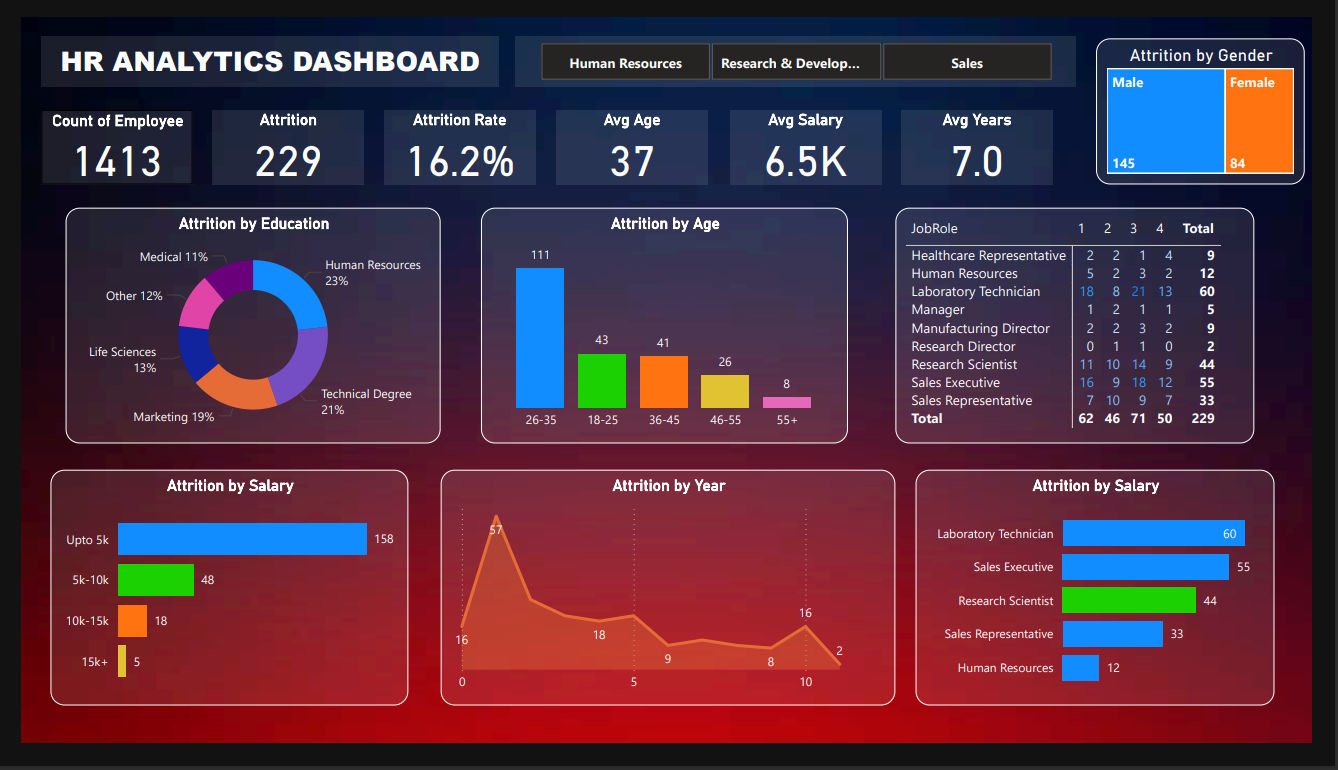

This screenshot's page, from the dashboard's own definition file:
{"tool":"powerbi","page":{"name":"Page 1","canvas":[1280,720],"ordinal":0},"visuals":[{"type":"card","title":"Count of Employee","fields":{"Values":["Sum(HR_Analytics.EmployeeCount)"]},"box":[20,92,150,74.3],"z":0},{"type":"card","title":"Attrition Rate","fields":{"Values":["HR_Analytics.AttritionRate"]},"box":[360,92,150,74.3],"z":1000},{"type":"card","title":"Attrition","fields":{"Values":["Sum(HR_Analytics.AttritionCount)"]},"box":[190,92,150,74.3],"z":2000},{"type":"card","title":"Avg Years","fields":{"Values":["Avg(HR_Analytics.YearsAtCompany)"]},"box":[872.9,92,150,74.3],"z":3000},{"type":"card","title":"Avg Age","fields":{"Values":["Avg(HR_Analytics.Age)"]},"box":[531.4,92,150,74.3],"z":4000},{"type":"card","title":"Avg Salary","fields":{"Values":["Avg(HR_Analytics.MonthlyIncome)"]},"box":[702.9,92,150,74.3],"z":5000},{"type":"treemap","title":"Attrition by Gender","fields":{"Values":["Sum(HR_Analytics.AttritionCount)"],"Group":["HR_Analytics.Gender"]},"box":[1065.7,21.4,207.1,144.3],"z":6000},{"type":"donutChart","title":"Attrition by Education","fields":{"Category":["HR_Analytics.EducationField"],"Y":["HR_Analytics.AttritionRate"]},"box":[44.3,188.6,371.4,234.3],"z":7000},{"type":"clusteredColumnChart","title":"Attrition by Age","fields":{"Y":["Sum(HR_Analytics.AttritionCount)"],"Category":["HR_Analytics.AgeGroup"]},"box":[455.7,188.6,364.3,234.3],"z":8000},{"type":"pivotTable","fields":{"Rows":["HR_Analytics.JobRole"],"Columns":["HR_Analytics.JobSatisfaction"],"Values":["Sum(HR_Analytics.AttritionCount)"]},"box":[867.1,188.6,355.7,234.3],"z":9000},{"type":"clusteredBarChart","title":"Attrition by Salary","fields":{"Category":["HR_Analytics.SalarySlab"],"Y":["Sum(HR_Analytics.AttritionCount)"]},"box":[28.6,448.6,355.7,234.3],"z":10000},{"type":"areaChart","title":"Attrition by Year","fields":{"Category":["HR_Analytics.YearsAtCompany"],"Y":["Sum(HR_Analytics.AttritionCount)"]},"box":[415.7,448.6,451.4,234.3],"z":11000},{"type":"clusteredBarChart","title":"Attrition by Salary","fields":{"Category":["HR_Analytics.JobRole"],"Y":["Sum(HR_Analytics.AttritionCount)"]},"box":[887.1,448.6,355.7,234.3],"z":12000},{"type":"textbox","box":[20,18.6,454.3,50],"z":13000},{"type":"slicer","fields":{"Values":["HR_Analytics.Department"]},"box":[490,18.6,555.7,50],"z":13001}]}

Visuals, with their boxes in screenshot pixels (x1, y1, x2, y2), scaled from the page's 1280x720 canvas onto the 1338x770 screenshot:
"Count of Employee" card: pyautogui.locateOnScreen(21, 98, 178, 178)
"Attrition Rate" card: pyautogui.locateOnScreen(376, 98, 533, 178)
"Attrition" card: pyautogui.locateOnScreen(199, 98, 355, 178)
"Avg Years" card: pyautogui.locateOnScreen(912, 98, 1069, 178)
"Avg Age" card: pyautogui.locateOnScreen(555, 98, 712, 178)
"Avg Salary" card: pyautogui.locateOnScreen(735, 98, 892, 178)
"Attrition by Gender" treemap: pyautogui.locateOnScreen(1114, 23, 1330, 177)
"Attrition by Education" donutChart: pyautogui.locateOnScreen(46, 202, 435, 452)
"Attrition by Age" clusteredColumnChart: pyautogui.locateOnScreen(476, 202, 857, 452)
pivotTable - HR_Analytics.JobRole x HR_Analytics.JobSatisfaction: pyautogui.locateOnScreen(906, 202, 1278, 452)
"Attrition by Salary" clusteredBarChart: pyautogui.locateOnScreen(30, 480, 402, 730)
"Attrition by Year" areaChart: pyautogui.locateOnScreen(435, 480, 906, 730)
"Attrition by Salary" clusteredBarChart: pyautogui.locateOnScreen(927, 480, 1299, 730)
textbox: pyautogui.locateOnScreen(21, 20, 496, 73)
slicer - HR_Analytics.Department: pyautogui.locateOnScreen(512, 20, 1093, 73)
